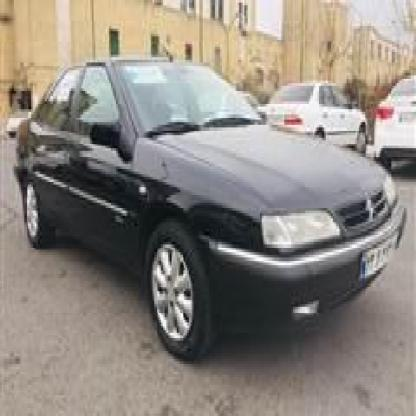Car: (0, 58, 411, 362), (248, 57, 362, 174), (376, 78, 416, 159)
